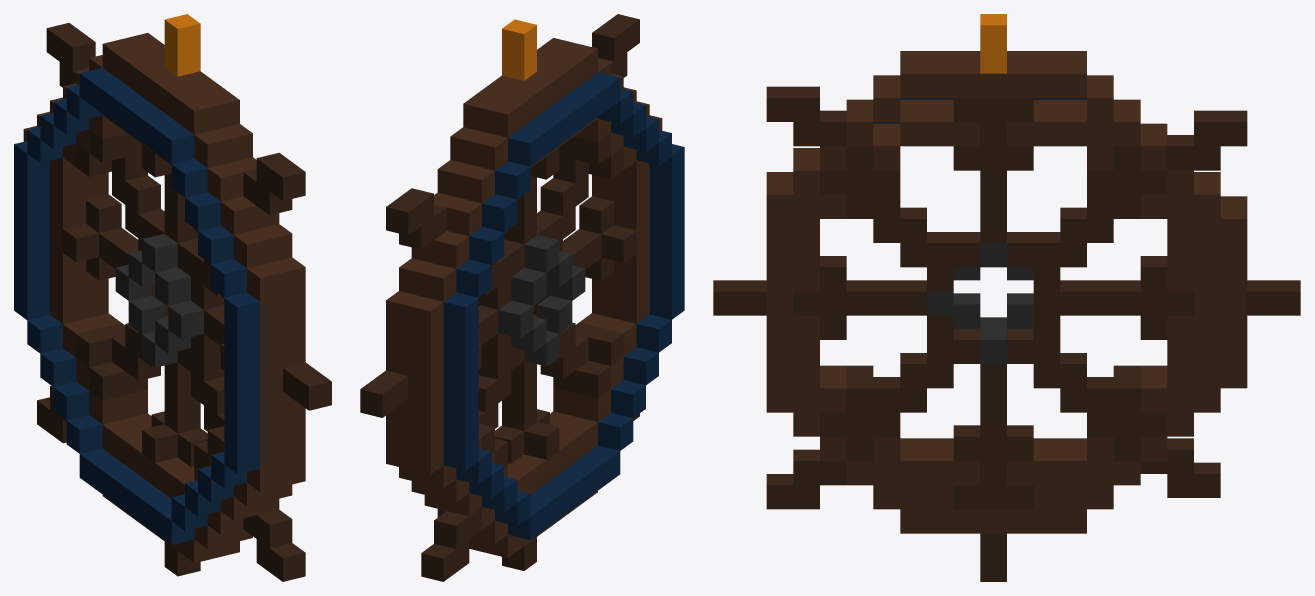
Rendered from штурвал.obj.
The picture shows the model from 3 angles, left to right: view 1: azimuth 30°, elevation 25°; view 2: azimuth 150°, elevation 25°; view 3: azimuth 270°, elevation 25°; orthographic projection. The views are drawn at different scales.
Bounding box in the file's own units: 0.3 × 2.3 × 2.2.
1 material, 1 textured.
